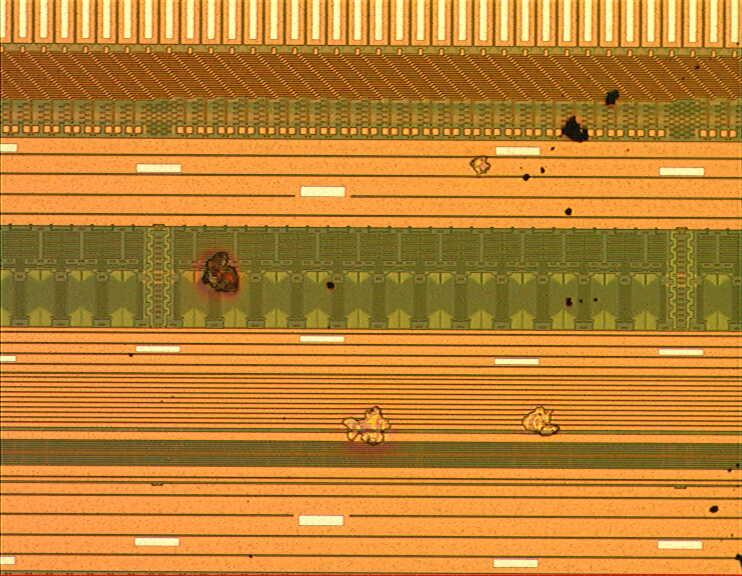PO CONTAMINATION: (125, 63, 742, 572)
